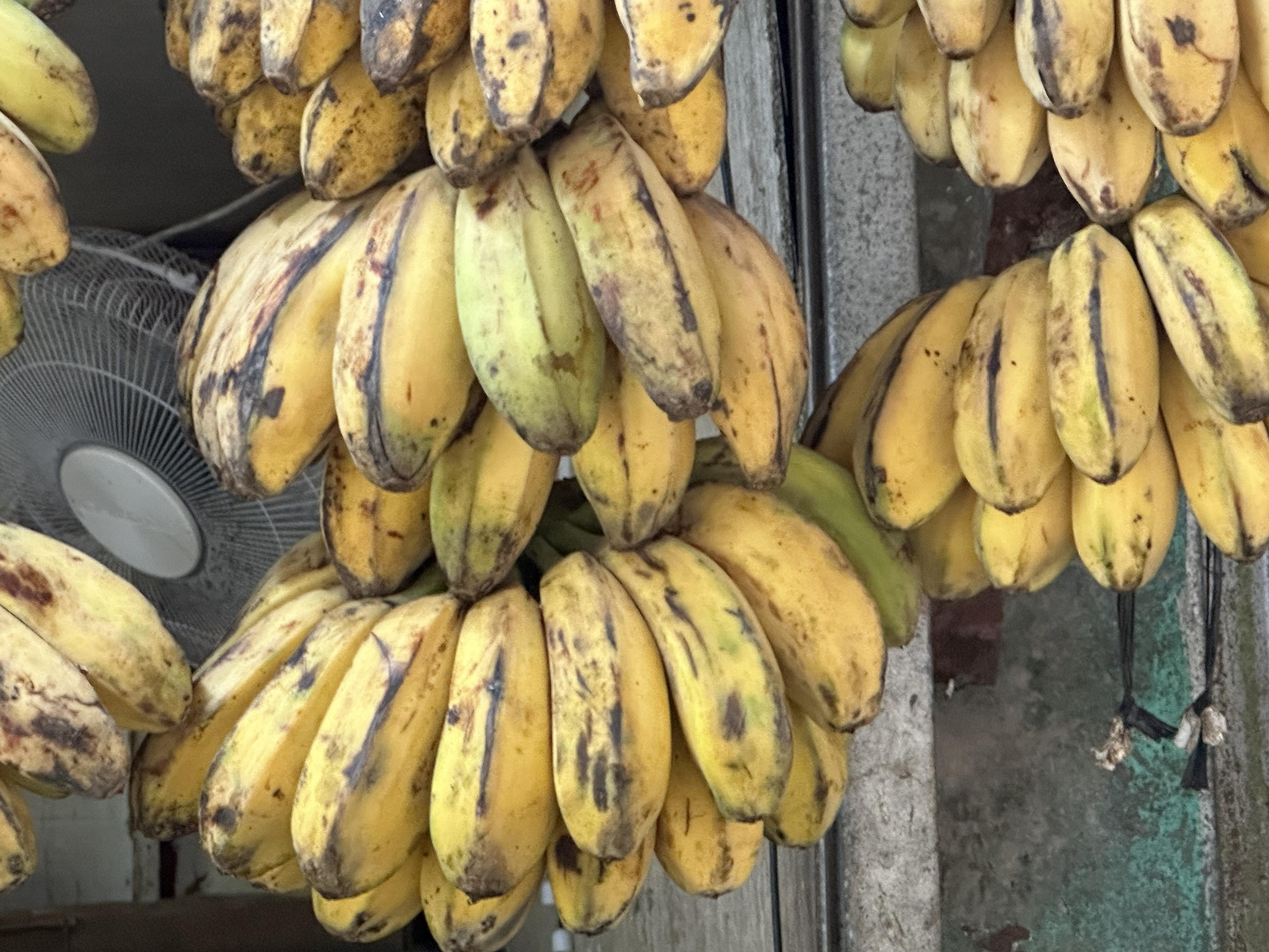ripe: (132, 436, 920, 952), (178, 98, 807, 597), (798, 195, 1269, 598), (165, 0, 736, 200), (842, 0, 1269, 232), (0, 519, 198, 896)
